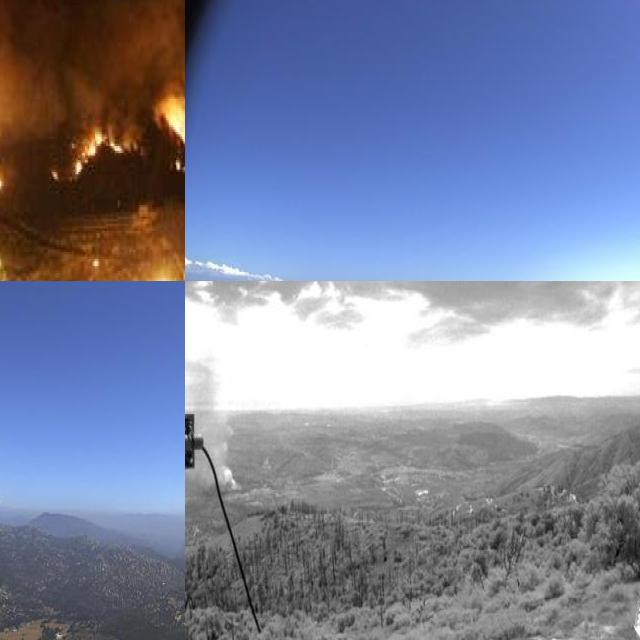fire: (69, 127, 135, 172), (151, 84, 185, 141)
smoke: (0, 0, 185, 167), (185, 358, 240, 492)
